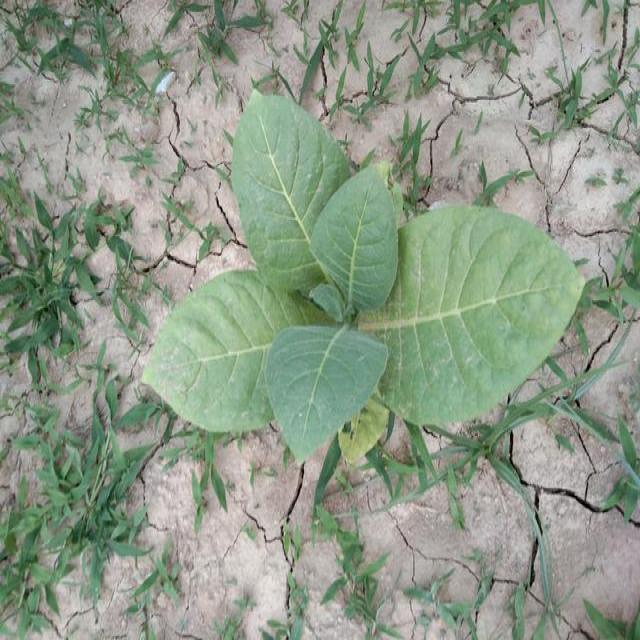crop: (139, 80, 586, 478)
